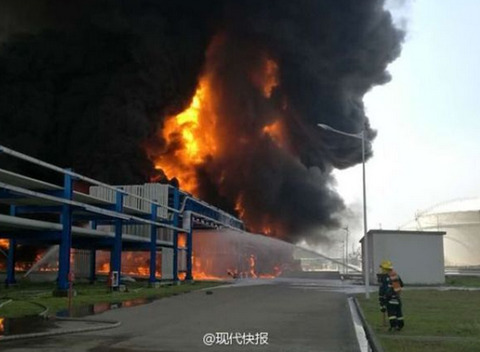fire: (158, 74, 231, 283)
smoke: (273, 8, 383, 230), (6, 6, 137, 159)
